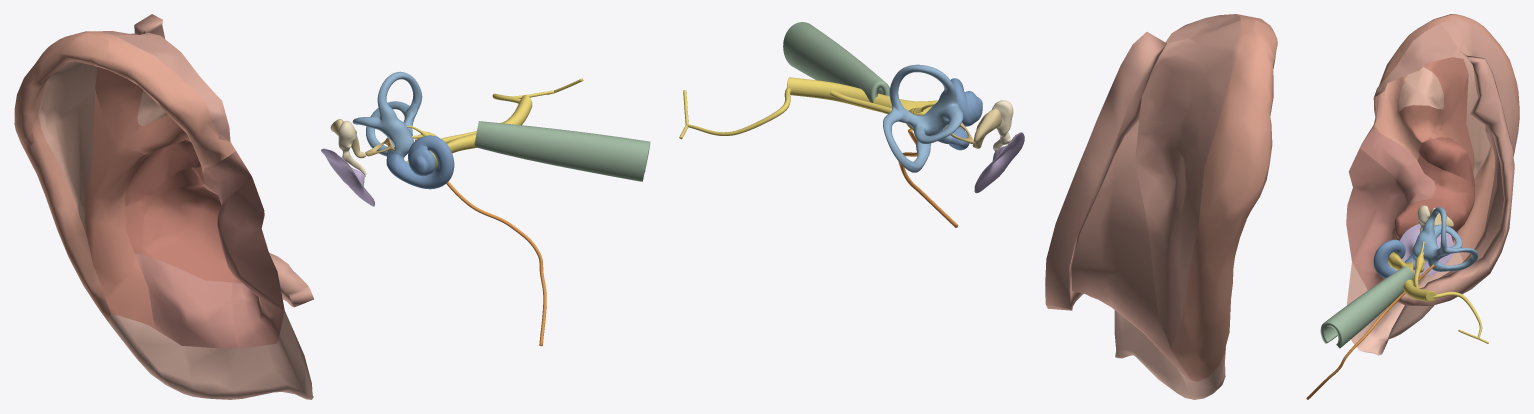
Rendered from ear.glb.
The picture shows the model from 3 angles, left to right: view 1: azimuth 30°, elevation 25°; view 2: azimuth 150°, elevation 25°; view 3: azimuth 270°, elevation 25°; orthographic projection. The views are drawn at different scales.
Parts seen in each view (by area): view 1: tragus, helix, antihelix, concha, lobule, scapha-and-fossa, auditory-tube, back-of-auricle, vestibule, cochlea, vestibulocochlear-nerve, tympanic-membrane (+2 smaller); view 2: back-of-auricle, helix, auditory-tube, vestibule, lobule, vestibulocochlear-nerve, cochlea, tympanic-membrane, malleus, incus, chorda-tympani; view 3: back-of-auricle, tragus, helix, concha, antihelix, scapha-and-fossa, lobule, auditory-tube, vestibule, vestibulocochlear-nerve, cochlea, tympanic-membrane (+2 smaller).
Part boxes in pixels (left/top/right/bottom): tragus: left=135, top=151, right=284, bottom=348; helix: left=14, top=31, right=235, bottom=325; antihelix: left=85, top=67, right=190, bottom=329; concha: left=124, top=140, right=241, bottom=283; lobule: left=109, top=311, right=313, bottom=399; scapha-and-fossa: left=38, top=61, right=167, bottom=233; auditory-tube: left=474, top=121, right=650, bottom=181; back-of-auricle: left=94, top=14, right=313, bottom=307; vestibule: left=352, top=71, right=422, bottom=157; cochlea: left=386, top=135, right=454, bottom=189; vestibulocochlear-nerve: left=406, top=78, right=583, bottom=168; tympanic-membrane: left=321, top=148, right=374, bottom=206; back-of-auricle: left=1045, top=14, right=1240, bottom=379; helix: left=1171, top=14, right=1277, bottom=381; auditory-tube: left=783, top=22, right=889, bottom=102; vestibule: left=883, top=64, right=963, bottom=172; lobule: left=1114, top=310, right=1225, bottom=399; vestibulocochlear-nerve: left=679, top=77, right=938, bottom=139; cochlea: left=949, top=78, right=982, bottom=150; tympanic-membrane: left=974, top=132, right=1024, bottom=193; malleus: left=992, top=100, right=1013, bottom=151; incus: left=972, top=109, right=1001, bottom=148; chorda-tympani: left=898, top=129, right=958, bottom=227; back-of-auricle: left=1373, top=20, right=1518, bottom=305; tragus: left=1346, top=128, right=1435, bottom=290; helix: left=1372, top=14, right=1519, bottom=261; concha: left=1394, top=137, right=1475, bottom=240; antihelix: left=1399, top=50, right=1474, bottom=241; scapha-and-fossa: left=1398, top=53, right=1490, bottom=178; lobule: left=1347, top=242, right=1462, bottom=355; auditory-tube: left=1320, top=266, right=1413, bottom=348; vestibule: left=1412, top=207, right=1478, bottom=271; vestibulocochlear-nerve: left=1388, top=241, right=1488, bottom=343; cochlea: left=1373, top=239, right=1416, bottom=278; tympanic-membrane: left=1400, top=224, right=1453, bottom=275.
Bounding box in the file's own units: 4.31 × 2.79 × 1.93.
